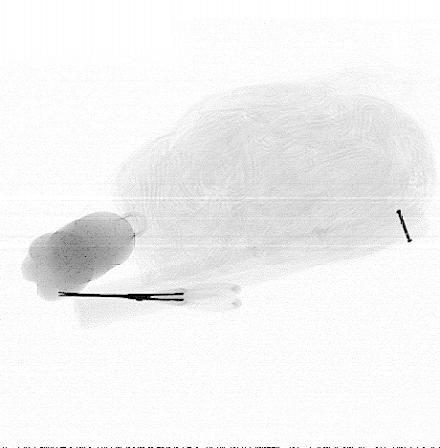Scissors: (57, 280, 244, 315)
